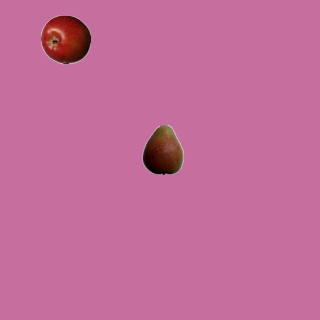Apple Braeburn: (40, 14, 90, 64)
Pear Forelle: (137, 124, 187, 174)
